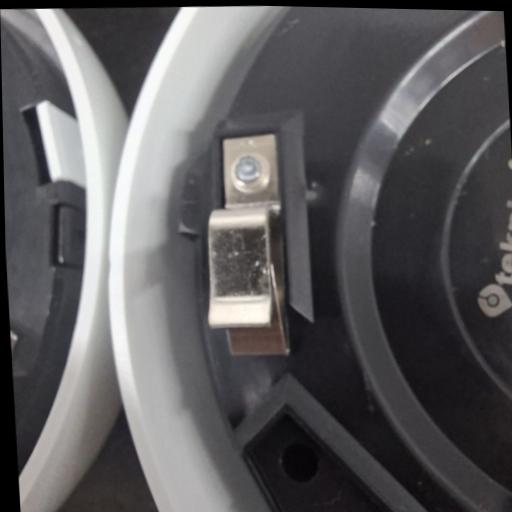yayli: (195, 126, 296, 354)
